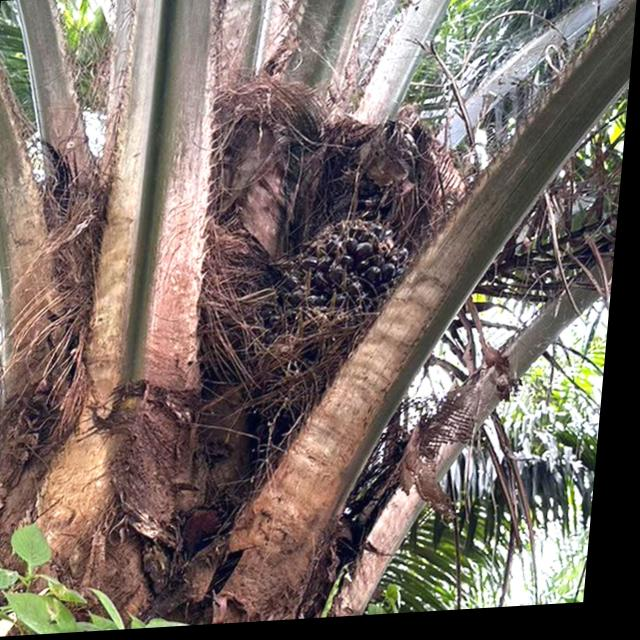almost: (255, 218, 420, 421)
